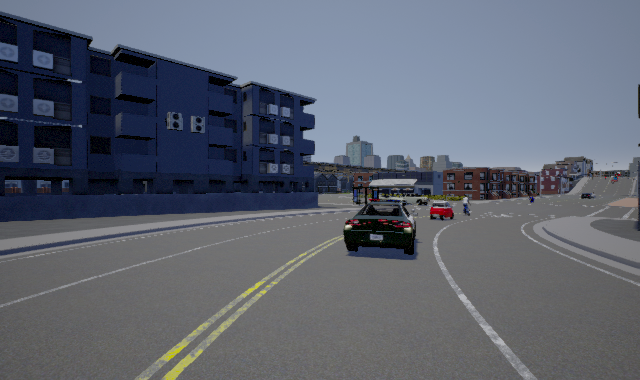bike: (460, 193, 475, 217)
vehicle: (343, 193, 430, 255), (430, 201, 454, 221)
